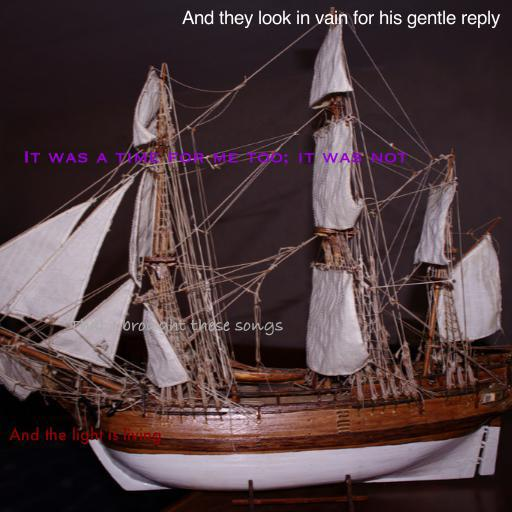Bradley Hand: (69, 317, 283, 336)
Copperplate: (22, 151, 408, 166)
Futura: (8, 427, 162, 445)
SignPainter: (182, 10, 500, 29)
